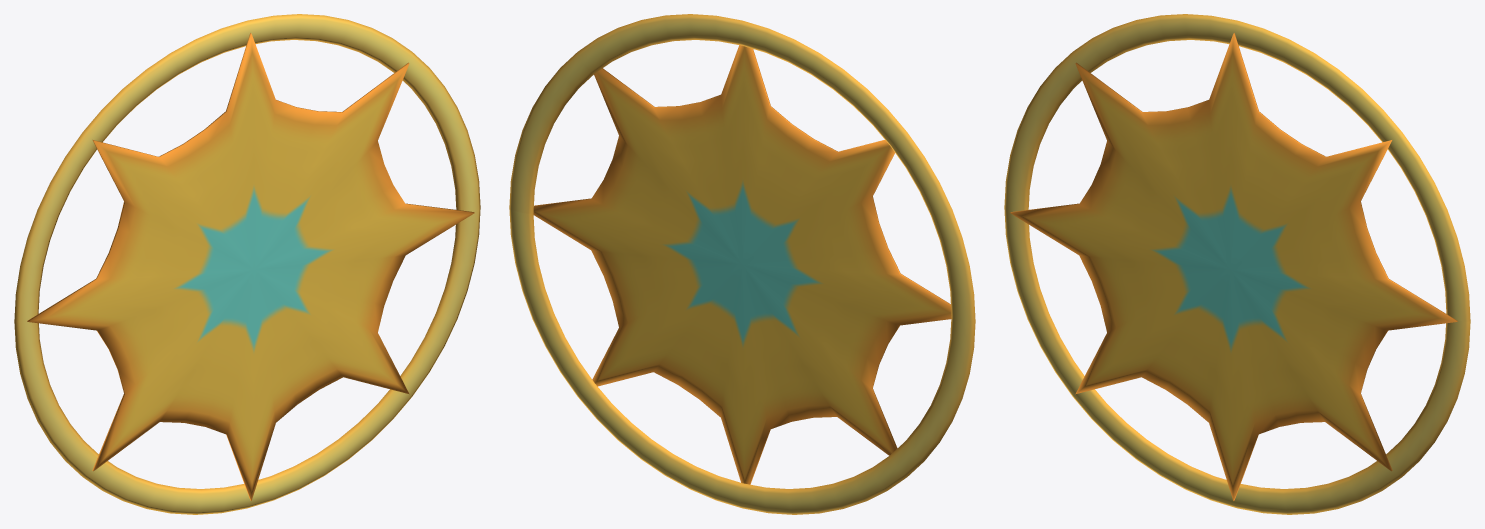
Rendered from SD_FX08_SunGateActivate.fbx.
3 views of the same model, side by side, from view 1: azimuth 30°, elevation 25°; view 2: azimuth 150°, elevation 25°; view 3: azimuth 330°, elevation 25° (orthographic).
Parts seen in each view (by area): view 1: Glyph, Ring; view 2: Glyph, Ring; view 3: Glyph, Ring.
Part boxes in pixels (x1,y1,x2,y2): Glyph: [27, 33, 474, 500]; Ring: [14, 14, 480, 514]; Glyph: [533, 45, 951, 484]; Ring: [509, 14, 975, 514]; Glyph: [1010, 33, 1457, 500]; Ring: [1004, 14, 1470, 514].
Bounding box in the file's own units: 2.32 × 2.32 × 0.08.
